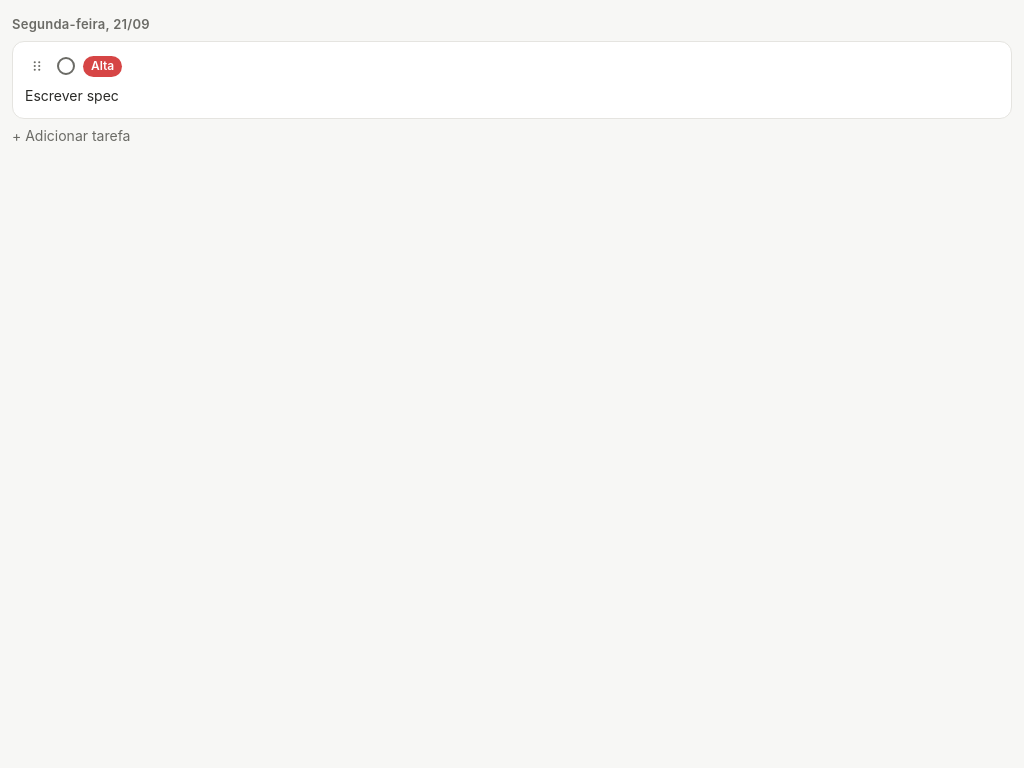
DayColumn › Edição de tarefa (Story 2.2) › clicar em qualquer área do Card (exceto Indicador/Tag) abre o Modal em edição, pré-preenchido
Click the text "Escrever spec" at (72, 96), box left=25, top=86, right=119, bottom=106
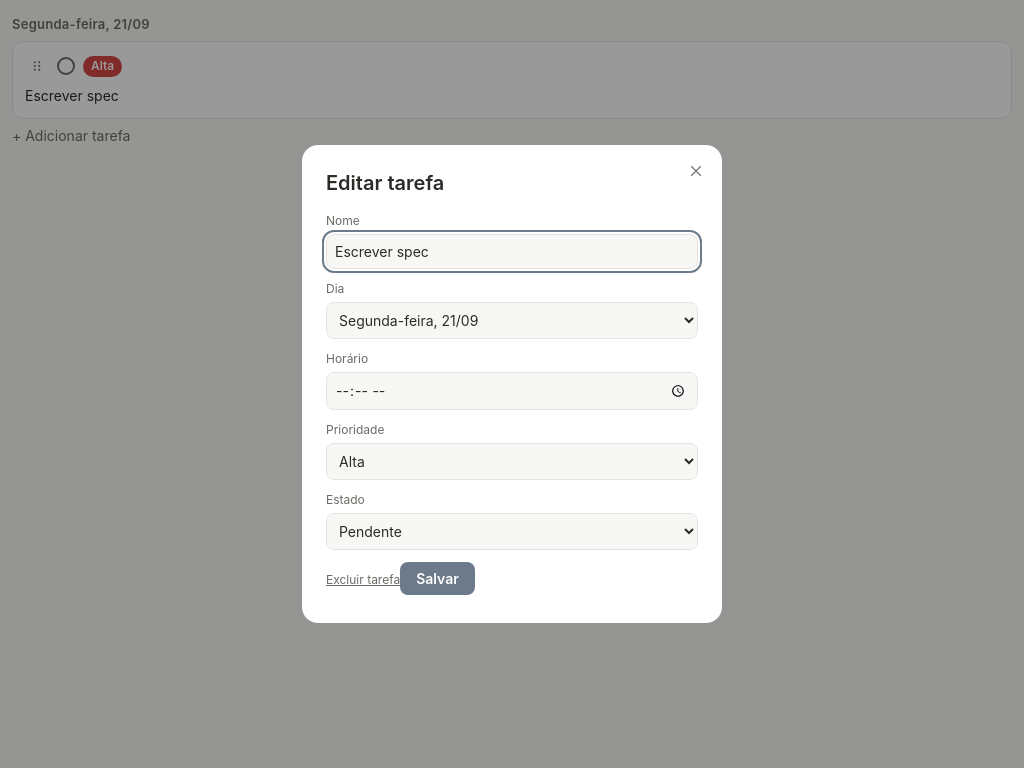
Check: the dialog is shown, box left=302, top=145, right=722, bottom=623
Check: the heading "Editar tarefa" is shown, box left=326, top=171, right=444, bottom=195
Check: the field labelled "Nome" holds "Escrever spec", box left=326, top=234, right=698, bottom=269
